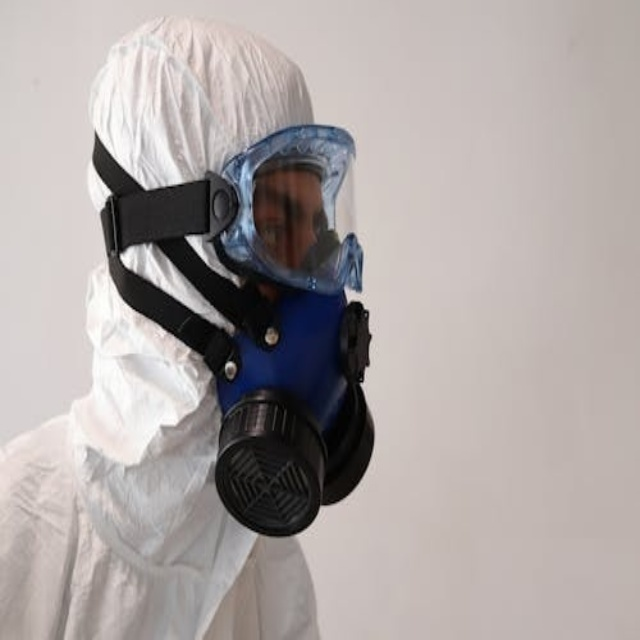Gafas: (101, 125, 365, 304)
Mascara: (94, 127, 376, 537)
